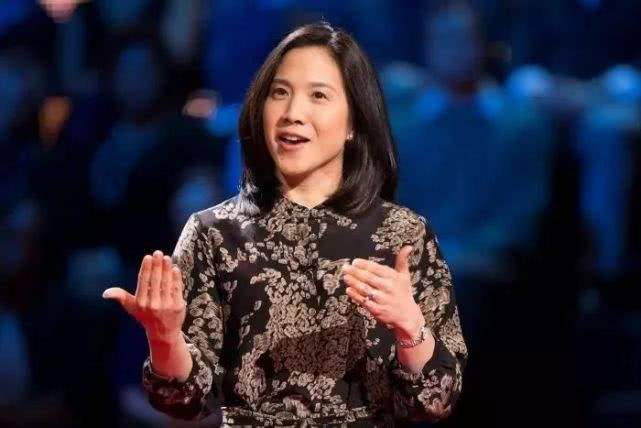no-phone: (101, 248, 189, 338), (340, 244, 418, 331)
